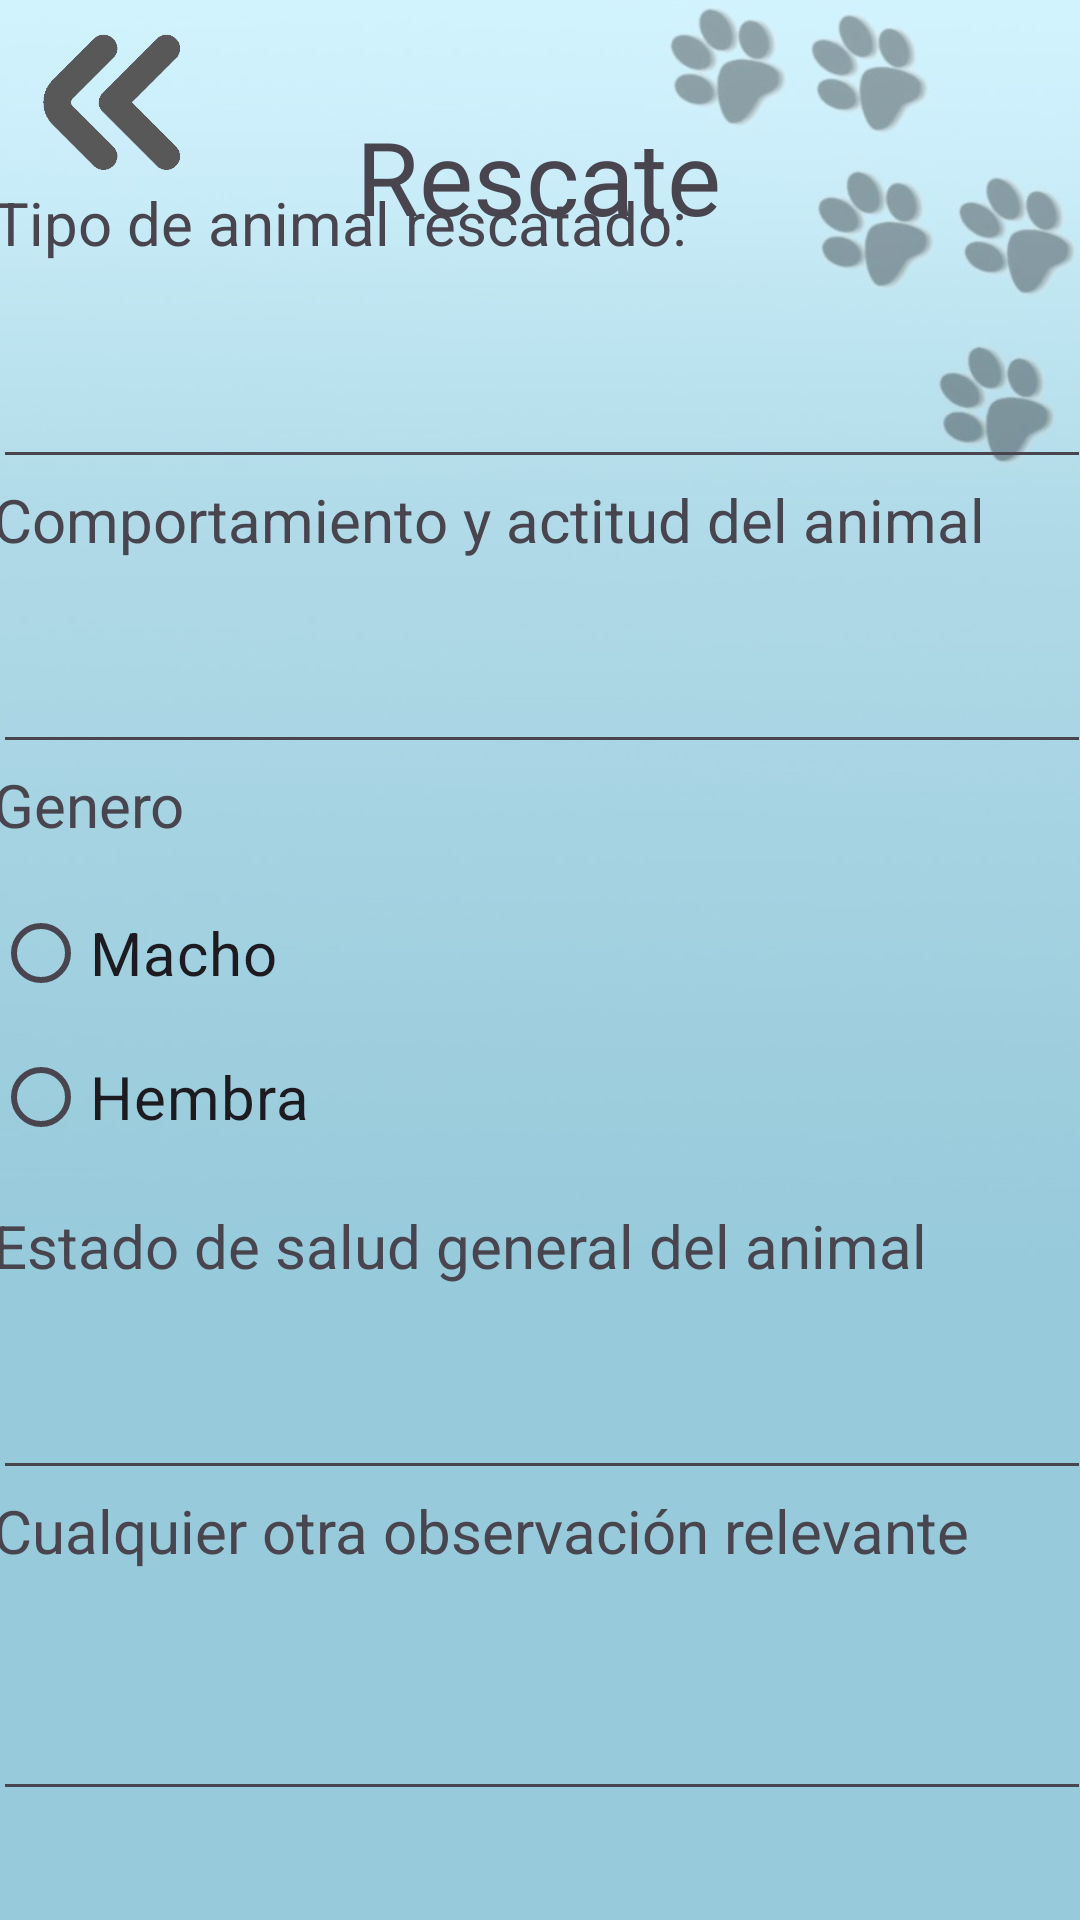

Named icons in this screenshot (1080px×1920px) and their bounding boxes, Rect(x1, y1, x2, y2):
regresar: Rect(33, 35, 180, 209)
